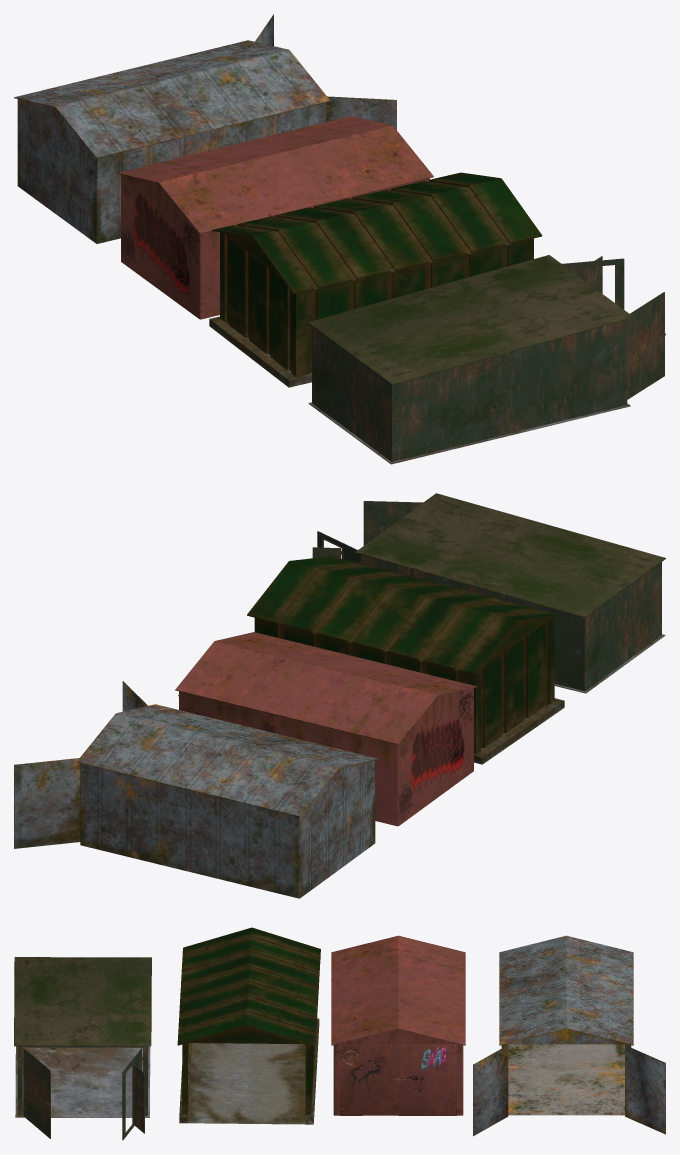
The model's file is garages.glb.
The picture shows the model from 3 angles, top to bottom: view 1: azimuth 30°, elevation 25°; view 2: azimuth 150°, elevation 25°; view 3: azimuth 270°, elevation 25°; orthographic projection. The views are drawn at different scales.
Parts seen in each view (by area): view 1: garage_3, garage_1, garage_4, krusha, garage; view 2: garage_4, garage_3, garage_1, krusha, garage; view 3: garage_4, garage_1, garage_3, krusha, Dveri, garage.
Boxes of the visible parts, x1,y1,x2,y2 form: garage_3: [308, 255, 665, 464]; garage_1: [209, 172, 542, 387]; garage_4: [14, 14, 396, 243]; krusha: [117, 116, 433, 233]; garage: [121, 174, 429, 319]; garage_4: [14, 681, 378, 898]; garage_3: [312, 493, 665, 693]; garage_1: [247, 556, 564, 764]; krusha: [175, 632, 477, 744]; garage: [178, 688, 473, 826]; garage_4: [473, 935, 665, 1136]; garage_1: [177, 927, 320, 1124]; garage_3: [14, 957, 151, 1140]; krusha: [331, 935, 465, 1045]; Dveri: [339, 1044, 457, 1115]; garage: [333, 1044, 463, 1115].
Bounding box in the file's own units: 7.12 × 2.75 × 16.56.
Materials: 4 (4 with a texture image).
